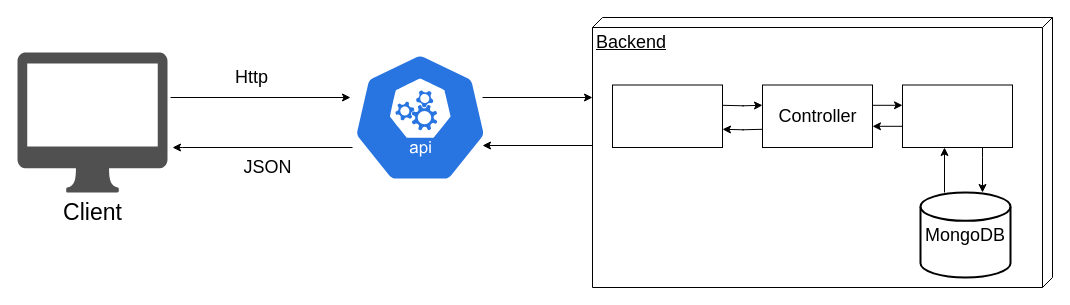
This 1070x305 diagram has some shape labels left out. The box of each missing label's shape, as (x1, y1, x2, y2) in pixels:
Handler: (612, 84, 722, 148)
Repository: (902, 84, 1012, 148)
